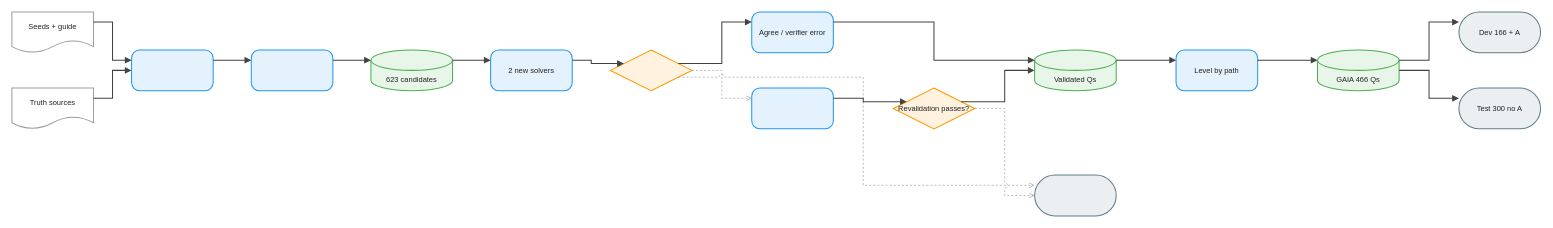
The diagram is 1553 pixels wide and 228 high, and some of its shapes have lost their labels. The shapes that lost their labels are listed below. From the top down, each one's centre as x and y in pixels, then its label:
the point at 172,70: Human design
the point at 291,70: Answer + meta
the point at 650,70: Pass as written?
the point at 792,108: Repair question
the point at 1075,195: Remove candidate
